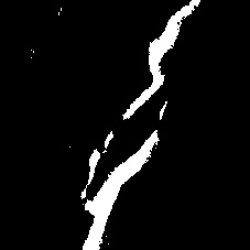crack: (80, 2, 201, 248)
